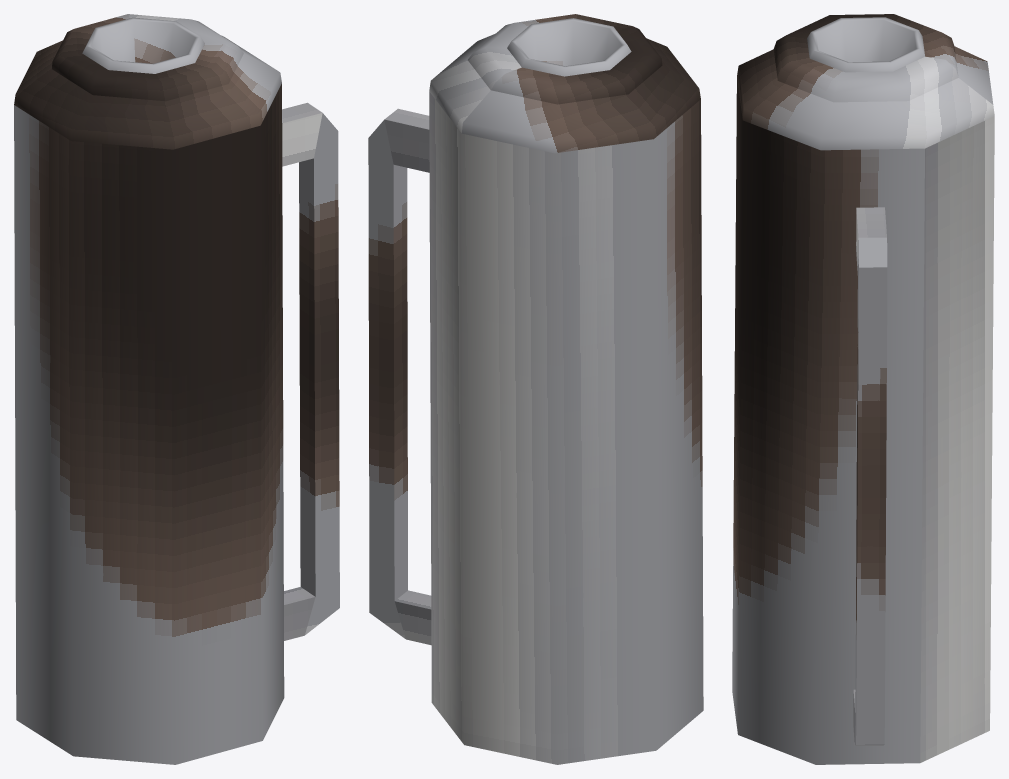
The model's file is H_CoffeeThermos.fbx.
3 views of the same model, side by side, from view 1: azimuth 30°, elevation 25°; view 2: azimuth 150°, elevation 25°; view 3: azimuth 270°, elevation 25° (orthographic).
Visible parts, largest first — view 1: CoffeeThermos; view 2: CoffeeThermos; view 3: CoffeeThermos.
Boxes of the visible parts, left/top/right/bottom form: CoffeeThermos: left=14, top=14, right=339, bottom=764; CoffeeThermos: left=368, top=14, right=703, bottom=764; CoffeeThermos: left=732, top=14, right=994, bottom=764.
Bounding box in the file's own units: 23.17 × 49.53 × 17.61.
